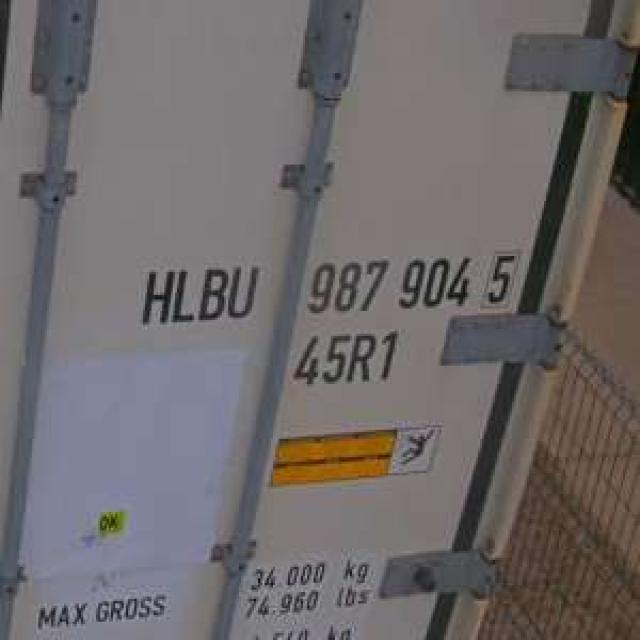dv: (480, 242, 523, 309)
owner: (132, 254, 265, 331)
serial: (298, 247, 474, 318)
size: (288, 324, 403, 391)
